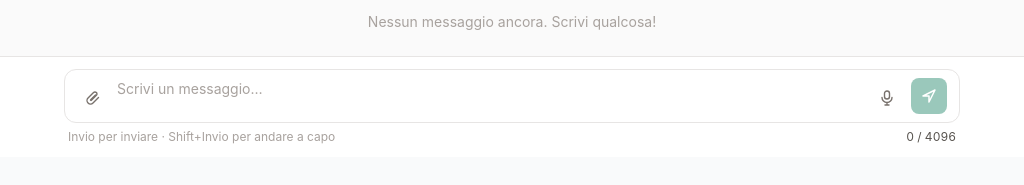
Test case: ChatArea – handleMicClick: avvio registrazione › auto-ferma la registrazione dopo 120 secondi e mostra errore
Click the button named "registra messaggio vocale" at (887, 98), box [871, 82, 903, 114]
Wait 120000 ms
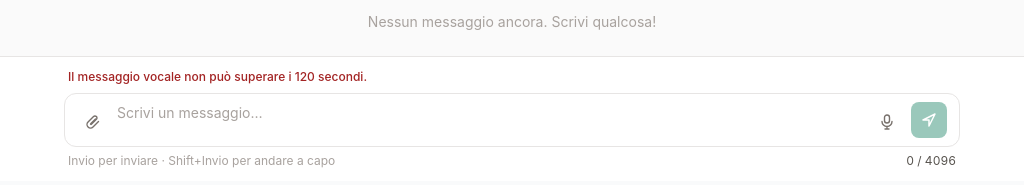
Expected: the text "Il messaggio vocale non può superare i 120 secondi." is shown, [68, 69, 367, 85]
